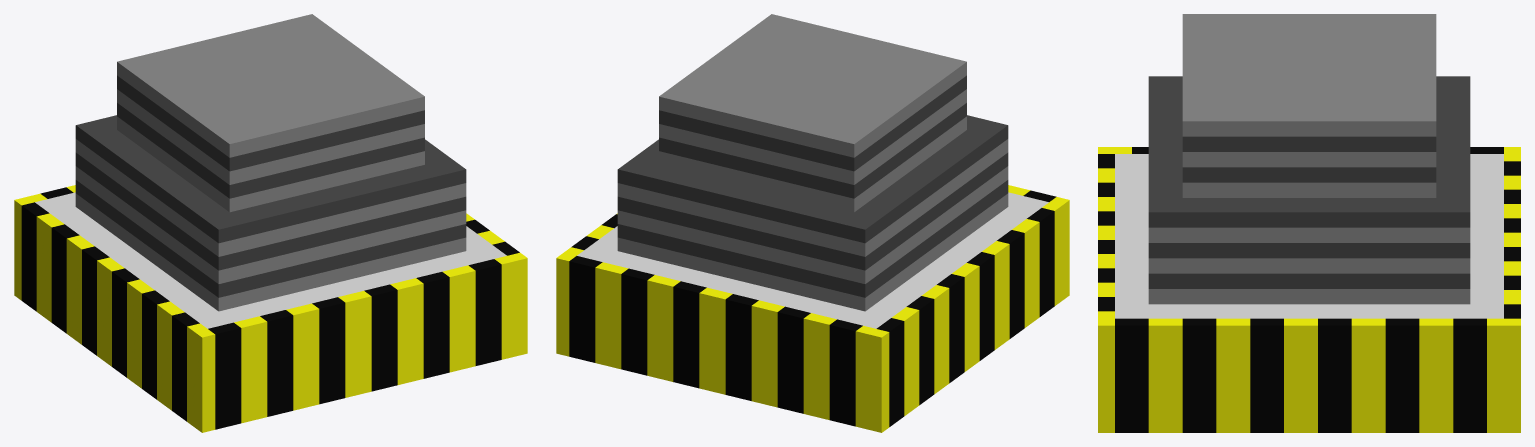
File: MultiShotTower1_Bottom.obj
3 renders of one model, left to right at view 1: azimuth 30°, elevation 25°; view 2: azimuth 150°, elevation 25°; view 3: azimuth 270°, elevation 25°, orthographic. The views are drawn at different scales.
Parts seen in each view (by area): view 1: MultiShotTower1_Bottom; view 2: MultiShotTower1_Bottom; view 3: MultiShotTower1_Bottom.
Boxes of the visible parts, x1,y1,x2,y2 form: MultiShotTower1_Bottom: (14, 14, 527, 432); MultiShotTower1_Bottom: (556, 14, 1069, 432); MultiShotTower1_Bottom: (1098, 14, 1520, 432).
Size of the model in its own units: 25 by 18 by 25.
Materials: 1 (1 with a texture image).
